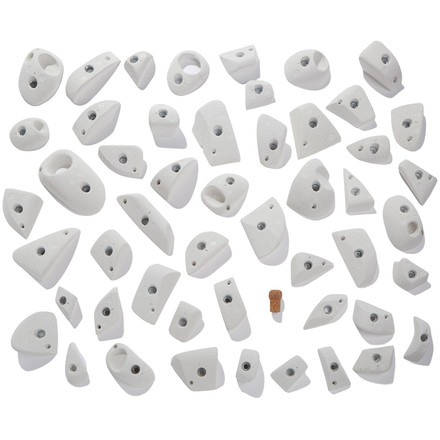hold: (39, 149, 104, 213), (13, 227, 79, 286), (117, 193, 172, 253), (193, 99, 239, 164), (287, 158, 334, 218), (66, 51, 119, 103), (132, 263, 179, 321), (290, 102, 339, 157), (241, 197, 285, 257), (333, 228, 377, 286), (19, 48, 62, 104), (106, 342, 153, 393), (359, 40, 402, 93), (151, 157, 197, 206), (383, 195, 423, 250), (171, 347, 223, 389), (73, 100, 120, 143), (201, 172, 248, 215), (326, 84, 374, 126), (91, 228, 131, 278), (11, 310, 57, 353), (3, 186, 42, 236), (185, 231, 228, 274), (284, 48, 330, 88), (257, 112, 290, 167), (167, 50, 208, 93), (399, 159, 436, 203), (149, 103, 186, 146), (214, 277, 245, 328), (99, 144, 146, 177), (391, 102, 424, 149), (304, 292, 347, 328), (220, 44, 259, 82), (94, 287, 123, 338), (318, 345, 349, 391), (343, 167, 374, 212), (271, 354, 309, 390), (353, 299, 393, 333), (291, 252, 332, 285), (169, 300, 202, 340), (346, 134, 390, 162), (10, 117, 48, 149), (404, 317, 431, 362), (393, 257, 428, 290), (125, 51, 154, 88), (354, 345, 393, 372), (56, 285, 81, 326), (65, 341, 88, 385), (245, 79, 273, 108), (237, 348, 259, 380)
